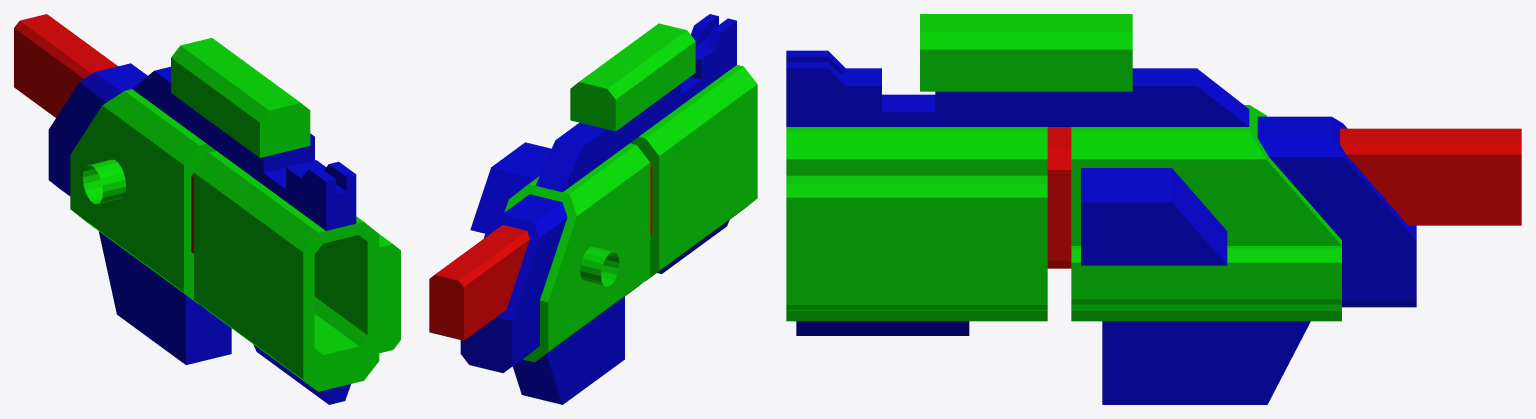
File: WeaponBot_Phaser_LVL3.FBX
3 renders of one model, left to right at view 1: azimuth 30°, elevation 25°; view 2: azimuth 150°, elevation 25°; view 3: azimuth 270°, elevation 25°, orthographic. The views are drawn at different scales.
Parts seen in each view (by area): view 1: WeaponBot_Phaser_LVL3; view 2: WeaponBot_Phaser_LVL3; view 3: WeaponBot_Phaser_LVL3.
Part boxes in pixels (x1=…): WeaponBot_Phaser_LVL3: x1=14, y1=14, x2=400, y2=404; WeaponBot_Phaser_LVL3: x1=429, y1=14, x2=757, y2=404; WeaponBot_Phaser_LVL3: x1=786, y1=14, x2=1521, y2=404.
Bounding box in the file's own units: 33.68 × 62.8 × 114.
